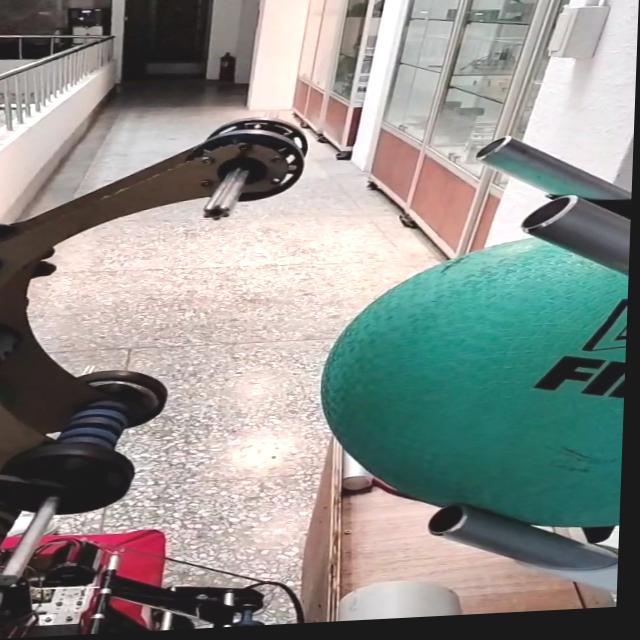ALGAE: (314, 229, 630, 541)
